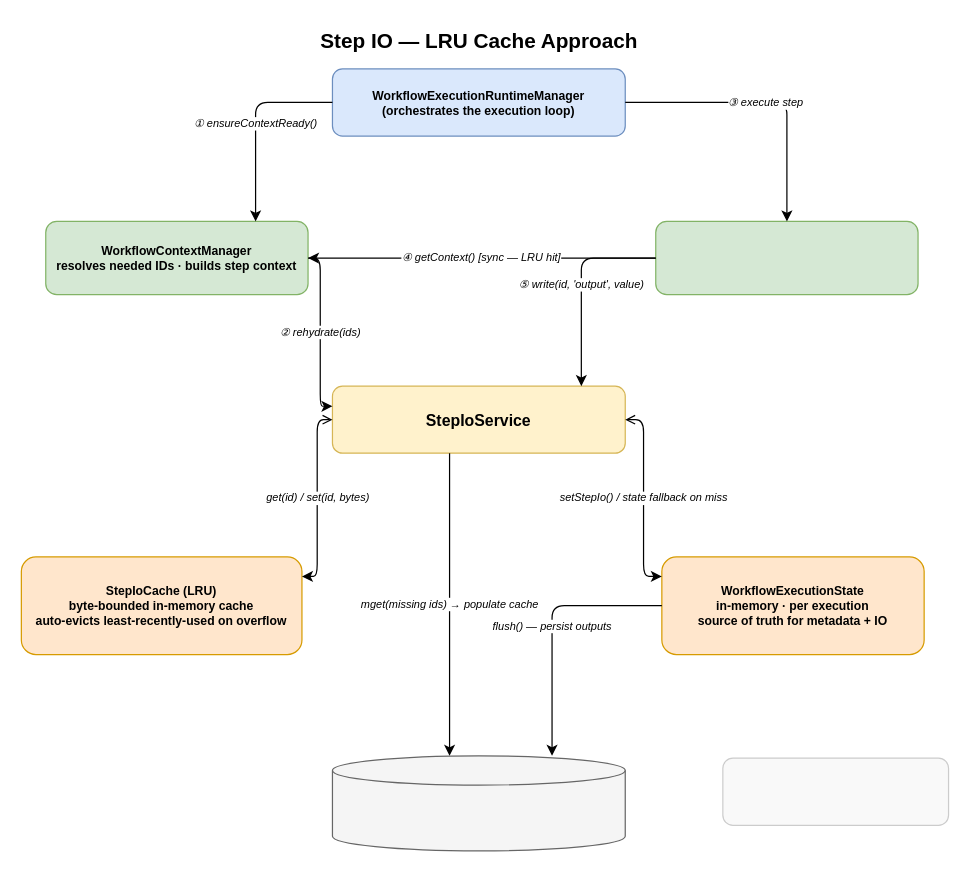
Image size: 970x872. Some labels were removed from this diagram. Each missing label, with the centre of its shape:
Elasticsearch (step_executions index): [478,803]
StepExecutionRuntime (executes one step): [786,257]
① – ⑤ execution order per step ──── normal data flow ╌╌╌╌ only on LRU cache miss: [835,791]
